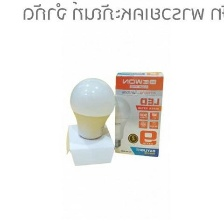carton: (113, 66, 166, 158)
light_bulb: (66, 74, 116, 147)
